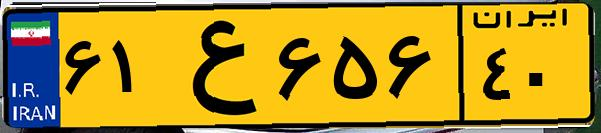0: (525, 38, 570, 115)
1: (110, 28, 158, 98)
4: (475, 38, 525, 113)
5: (330, 28, 385, 110)
6: (270, 28, 330, 110), (385, 28, 445, 110), (57, 26, 110, 100)
ع: (158, 12, 270, 120)
